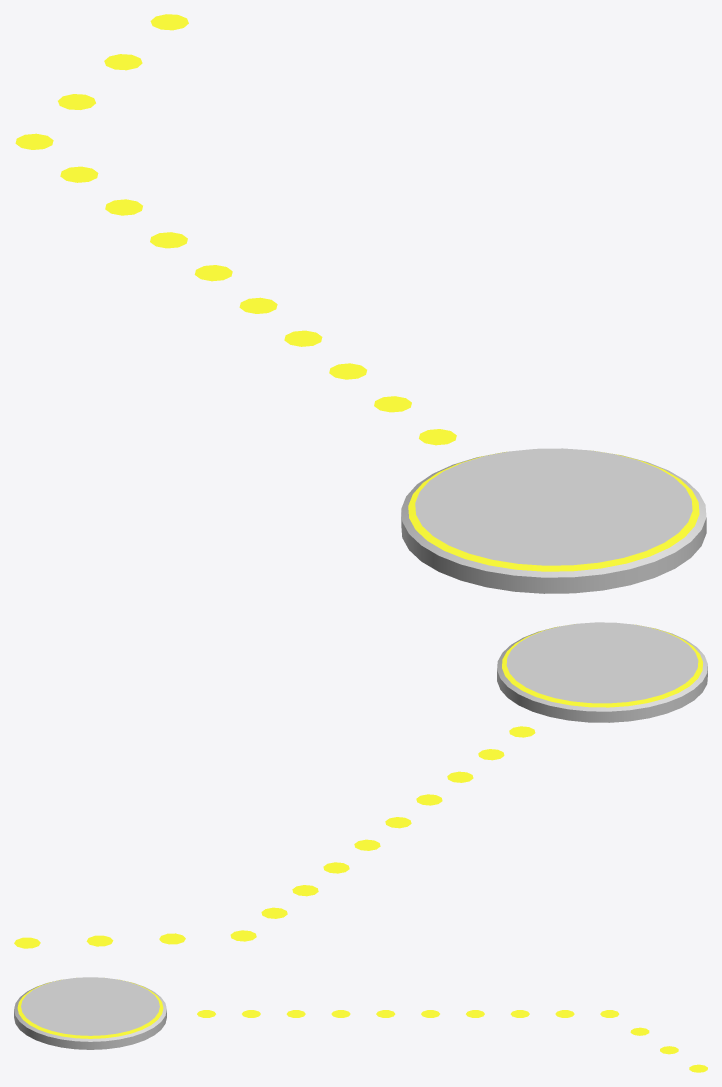
File: SciFi_leftbutton.glb
3 views of the same model, one above another, from view 1: azimuth 30°, elevation 25°; view 2: azimuth 150°, elevation 25°; view 3: azimuth 270°, elevation 25° (orthographic). The views are drawn at different scales.
Visible parts, largest first — view 1: Cylinder.001, Cylinder.003, Cylinder.005; view 2: Cylinder.001, Cylinder.003, Cylinder.005; view 3: Cylinder.001, Cylinder.003, Cylinder.005.
Boxes of the visible parts, <box> form: Cylinder.001: <box>401,448,706,593</box>; Cylinder.003: <box>15,133,456,445</box>; Cylinder.005: <box>58,14,188,109</box>; Cylinder.001: <box>497,622,707,722</box>; Cylinder.003: <box>230,726,535,941</box>; Cylinder.005: <box>14,933,185,948</box>; Cylinder.001: <box>14,977,166,1049</box>; Cylinder.003: <box>197,1010,619,1017</box>; Cylinder.005: <box>630,1027,707,1072</box>.
Bounding box in the file's own units: 1.13 × 0.0641 × 3.63.
